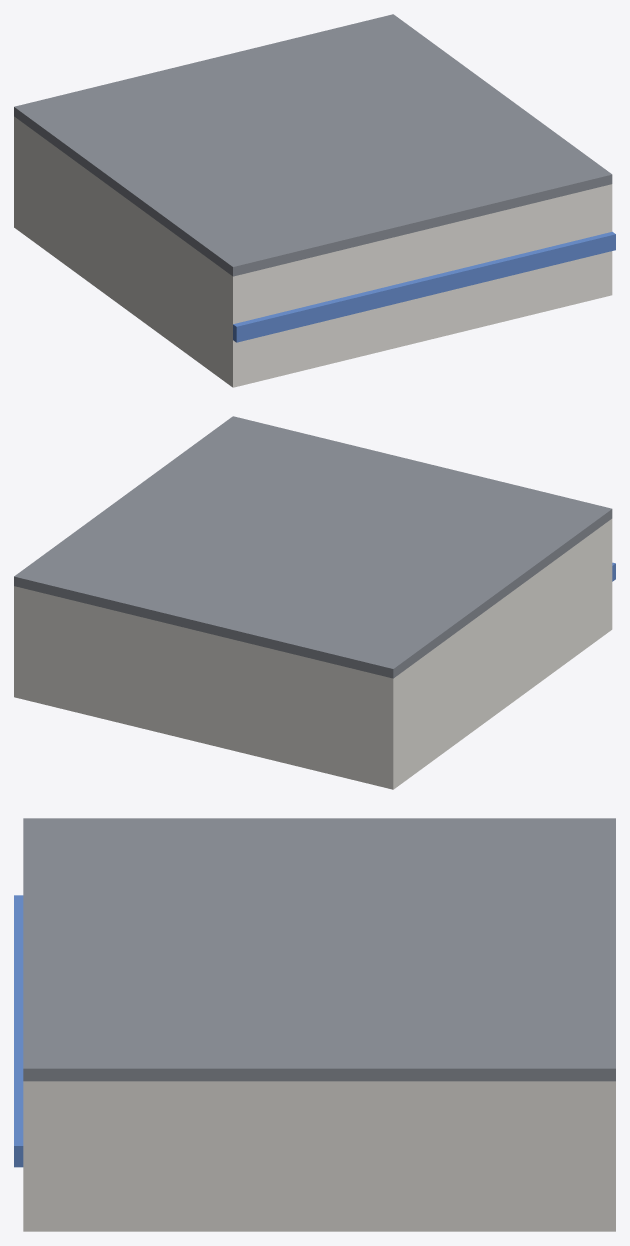
Rendered from police.glb.
3 renders of one model, top to bottom at view 1: azimuth 30°, elevation 25°; view 2: azimuth 150°, elevation 25°; view 3: azimuth 270°, elevation 25°, orthographic. The views are drawn at different scales.
Parts seen in each view (by area): view 1: Cube.002, Cube, Cube.001; view 2: Cube.002, Cube; view 3: Cube.002, Cube, Cube.001.
Boxes of the visible parts, bbox=[...] form: Cube.002: bbox=[14, 14, 612, 276]; Cube: bbox=[14, 116, 612, 387]; Cube.001: bbox=[233, 231, 615, 342]; Cube.002: bbox=[14, 416, 612, 678]; Cube: bbox=[14, 519, 612, 789]; Cube.002: bbox=[23, 818, 615, 1081]; Cube: bbox=[23, 1081, 615, 1231]; Cube.001: bbox=[14, 895, 23, 1167].
Size of the model in its own units: 25 by 7.6 by 25.4.
